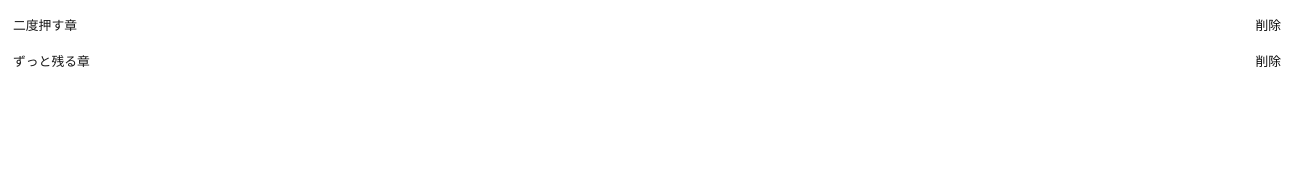
Test case: ChapterList の削除 › 素早く2回押しても、2回目の 404 でエラーを出さずに消える(削除が冪等であること)
Step 1. Double-click the button with aria-label "「二度押す章」を削除" → (1268, 26), box [1244,12,1292,40]
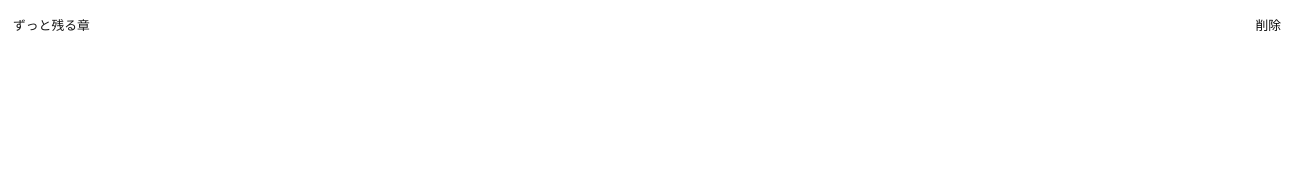
Expected: the button "ずっと残る章" is shown, [12,15,91,37]
Now the button "二度押す章" is gone
